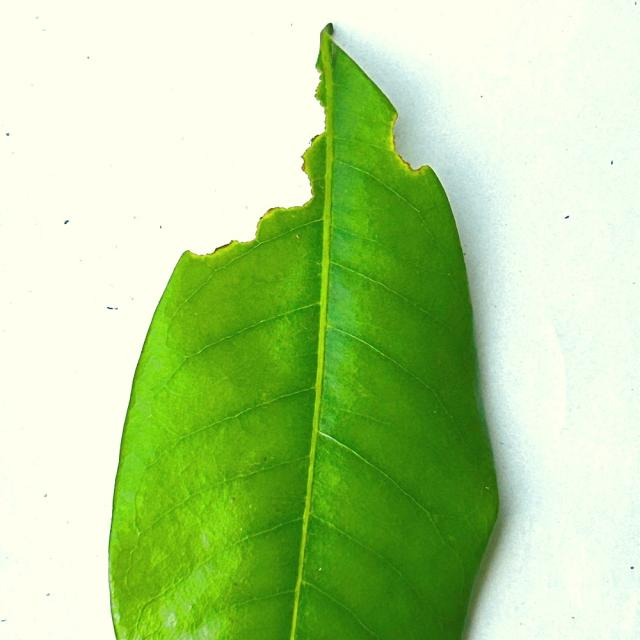Deficiency Leaf: (156, 31, 323, 259), (372, 108, 436, 177)
Lychee: (109, 25, 498, 639)
